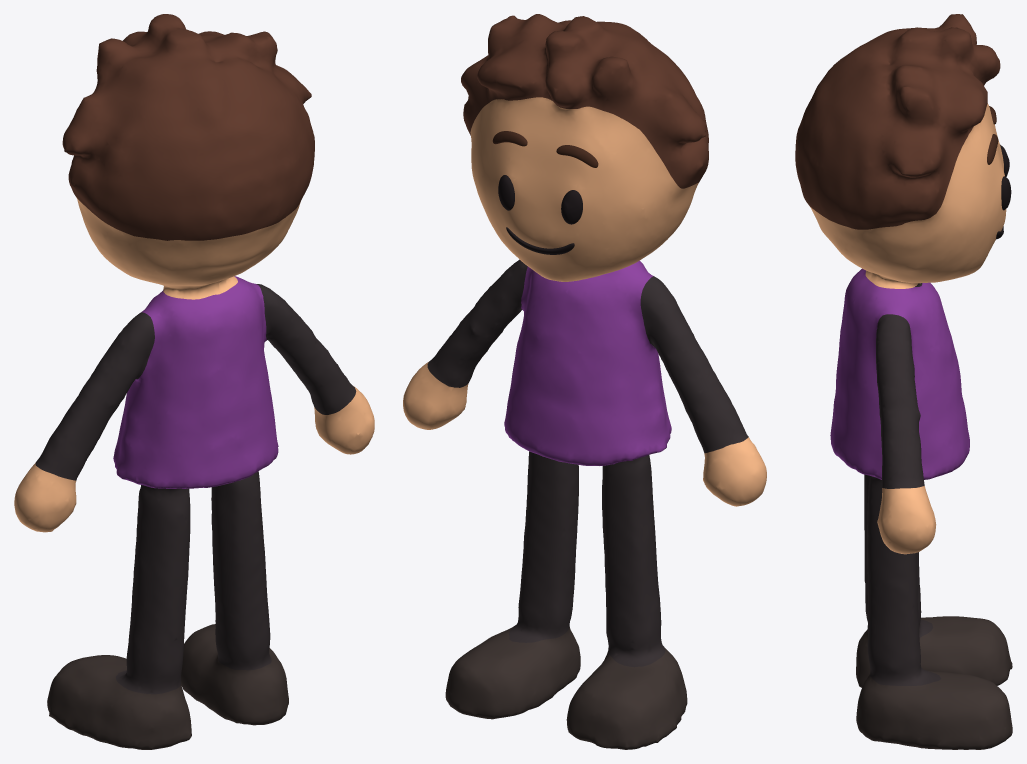
The model's file is Dave_neutral_refined.glb.
The picture shows the model from 3 angles, left to right: view 1: azimuth 30°, elevation 25°; view 2: azimuth 150°, elevation 25°; view 3: azimuth 270°, elevation 25°; orthographic projection.
Parts seen in each view (by area): view 1: Dave_body_clean; view 2: Dave_body_clean, Eye_R; view 3: Dave_body_clean.
Boxes of the visible parts, x1,y1,x2,y2 form: Dave_body_clean: [14, 14, 374, 749]; Dave_body_clean: [403, 14, 766, 749]; Eye_R: [561, 190, 582, 224]; Dave_body_clean: [795, 14, 1012, 749].
Bounding box in the file's own units: 1.08 × 1.99 × 0.5835.
